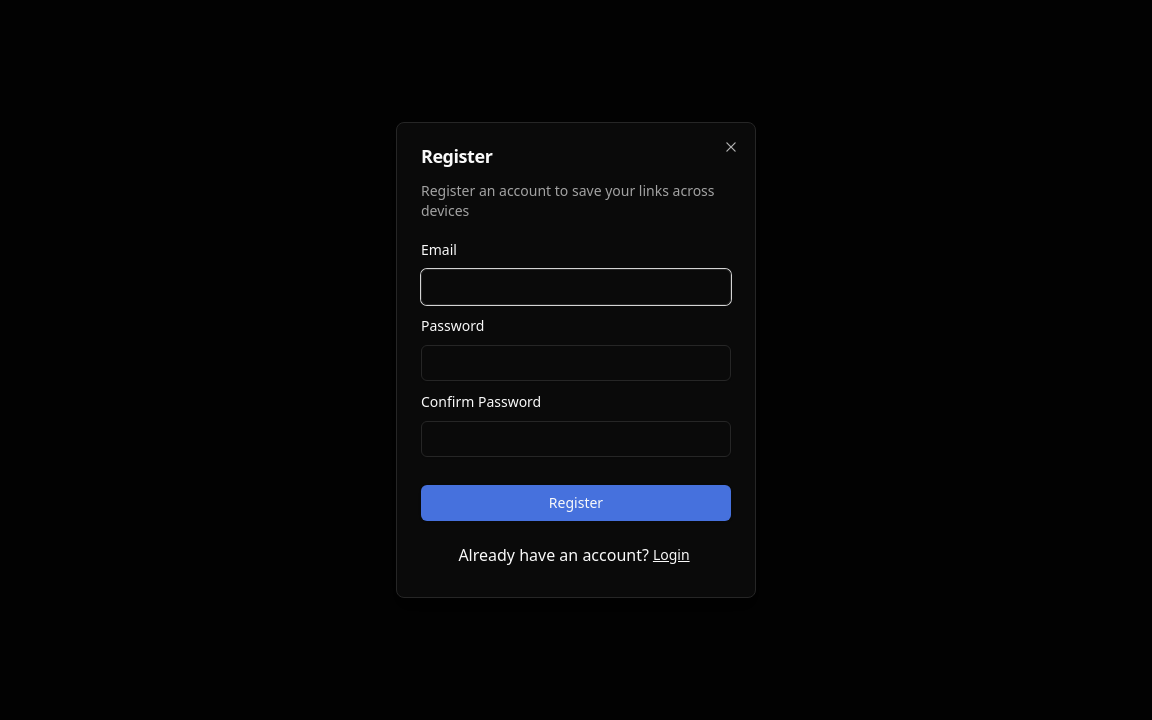
it: LoginRegister › should show error messages when resgistration form contains empty fields on submit
Click the button "Register" at (576,503), box top-left (421, 485), bottom-right (731, 521)
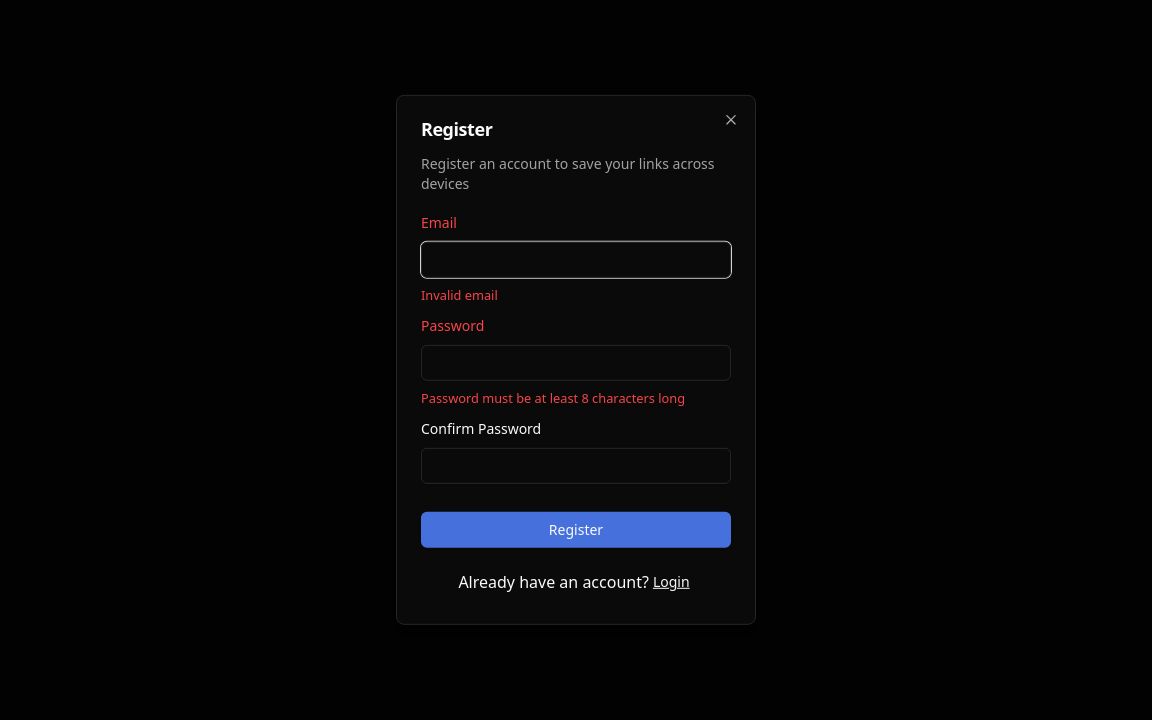
Expected: the text "Invalid email" is shown, top-left (421, 286), bottom-right (498, 304)
Expected: the text "Password must be at least 8 characters long" is shown, top-left (421, 389), bottom-right (731, 408)
